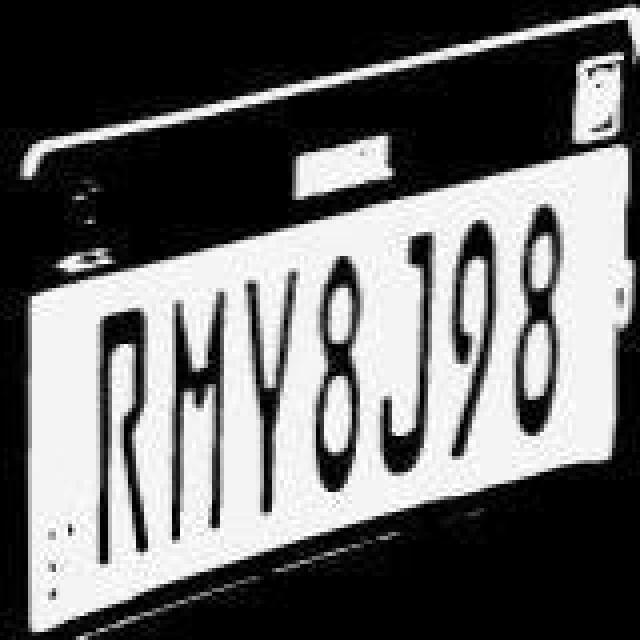8: (314, 246, 370, 490), (518, 192, 574, 432)
9: (446, 210, 510, 462)
J: (378, 220, 442, 476)
M: (170, 272, 234, 544)
R: (90, 294, 154, 570)
Y: (244, 254, 304, 514)
